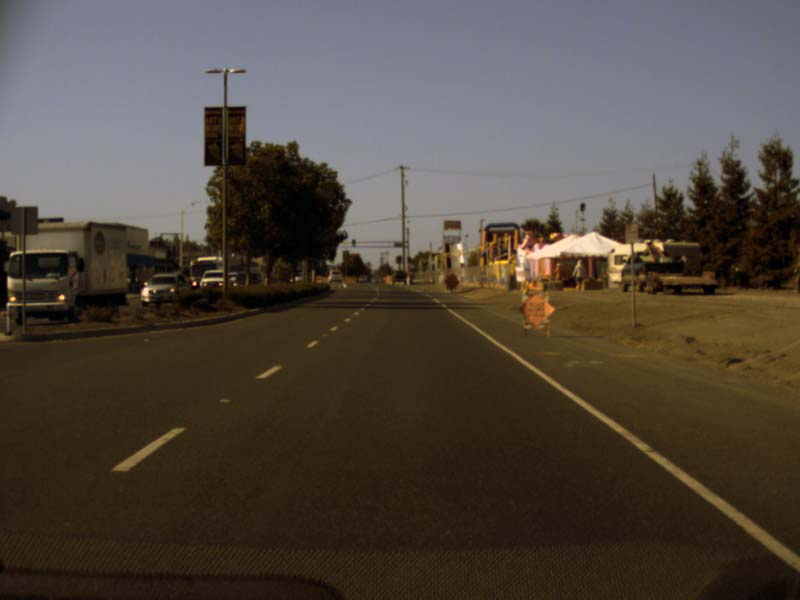Green: (351, 239, 354, 247)
